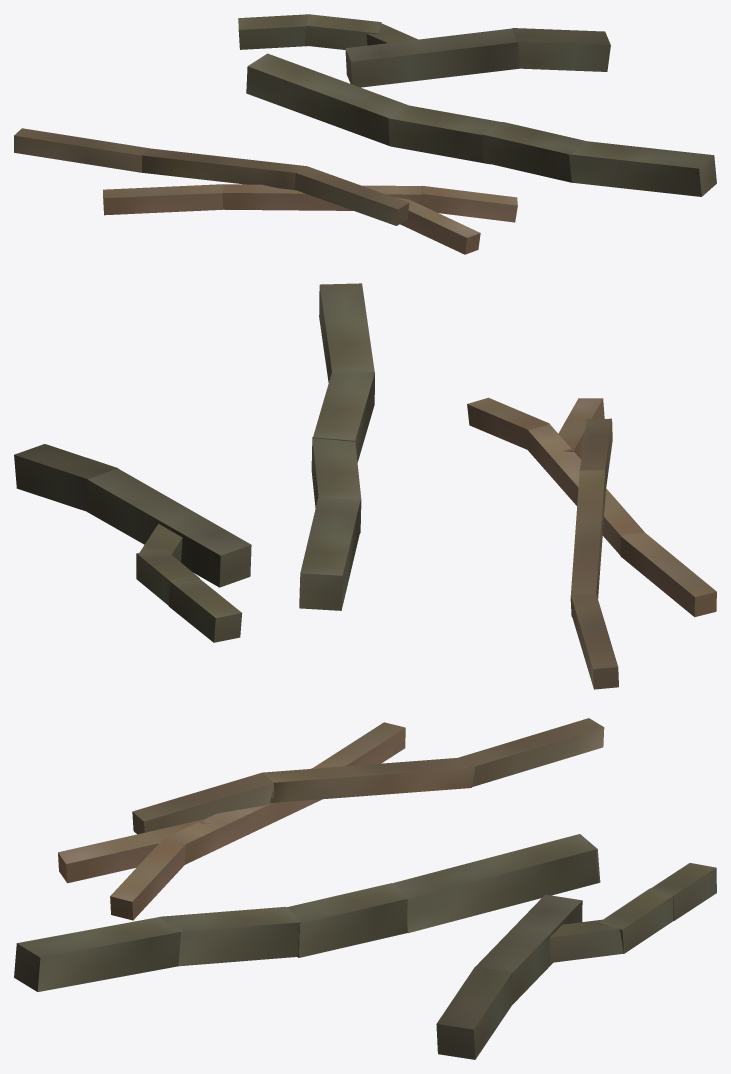
File: floortwig_7.obj
The picture shows the model from 3 angles, top to bottom: view 1: azimuth 30°, elevation 25°; view 2: azimuth 150°, elevation 25°; view 3: azimuth 270°, elevation 25°; orthographic projection. The views are drawn at different scales.
Visible parts, largest first — view 1: cube; view 2: cube; view 3: cube.
Boxes of the visible parts, x1,y1,x2,y2 form: cube: (14, 14, 716, 254); cube: (14, 283, 716, 689); cube: (14, 718, 716, 1059).
Size of the model in its own units: 1.36 by 0.1296 by 1.27.
